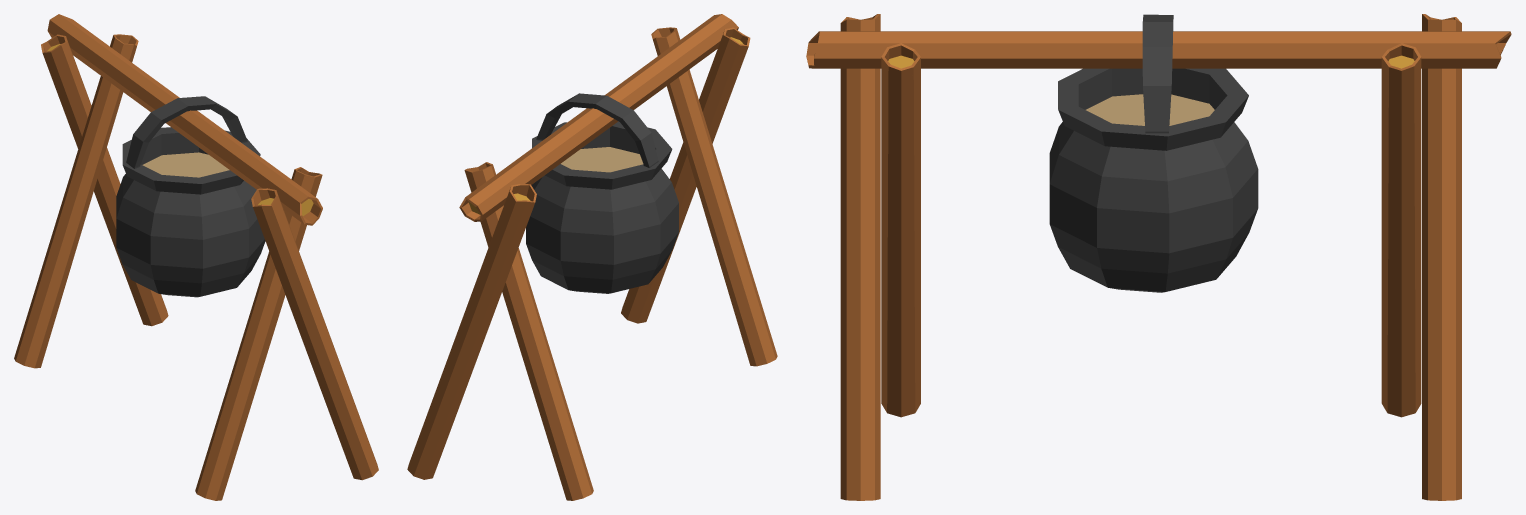
File: pot.glb
3 views of the same model, side by side, from view 1: azimuth 30°, elevation 25°; view 2: azimuth 150°, elevation 25°; view 3: azimuth 270°, elevation 25° (orthographic). The views are drawn at different scales.
Parts seen in each view (by area): view 1: Cylinder.001, Circle.001, Cylinder.003; view 2: Cylinder.001, Circle.001, Cylinder.003; view 3: Cylinder.001, Circle.001, Cylinder.003.
Part boxes in pixels (x1,y1,x2,y2): Cylinder.001: (14, 34, 378, 500); Circle.001: (116, 96, 265, 297); Cylinder.003: (47, 14, 322, 225); Cylinder.001: (407, 27, 777, 500); Circle.001: (526, 93, 678, 293); Cylinder.003: (459, 14, 738, 221); Cylinder.001: (840, 14, 1461, 500); Circle.001: (1049, 14, 1258, 292); Cylinder.003: (806, 31, 1511, 68).
Size of the model in its own units: 3.42 by 6.17 by 9.11.
